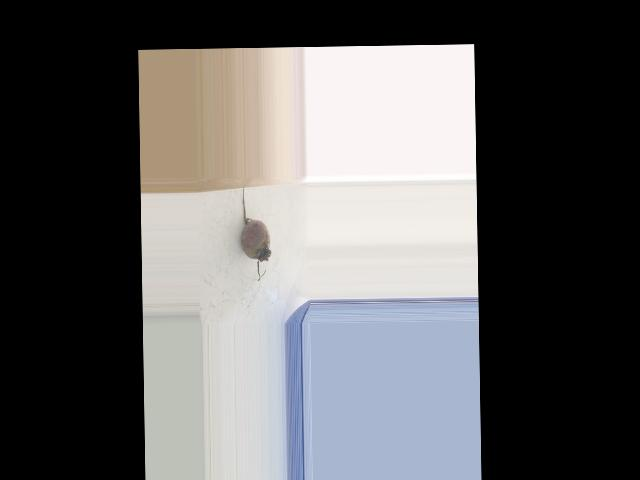beet: (240, 183, 271, 280)
